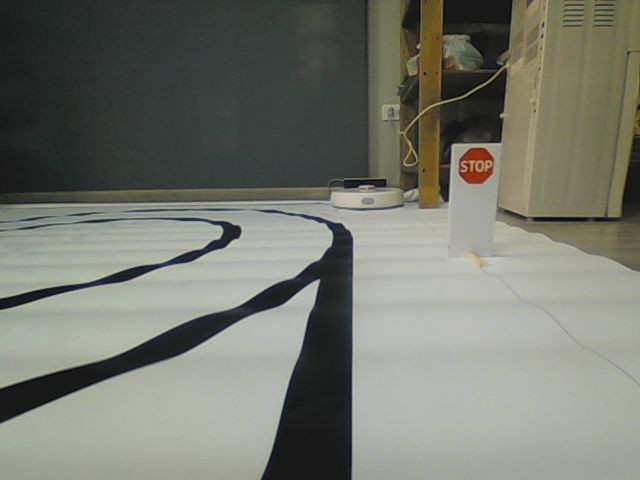Stop: (458, 147, 494, 184)
